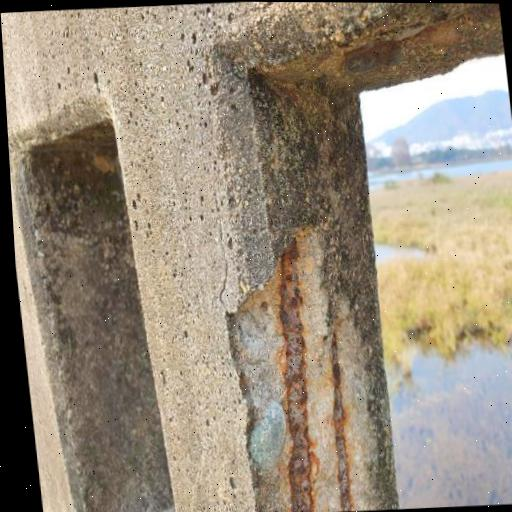exposed_rebar: (279, 239, 315, 512), (330, 334, 353, 511)
spalling: (230, 229, 376, 512)
